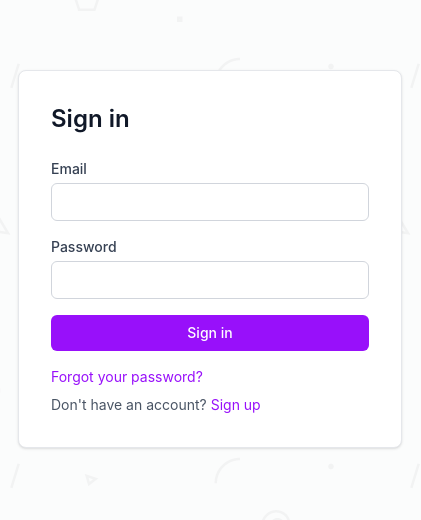
Scenario: LoginPage › ошибка от сервера › неподтверждённый email › предлагает выслать письмо повторно
In the field labelled "Email": (210, 202) left=51, top=183, right=369, bottom=221, type "user@example.com"
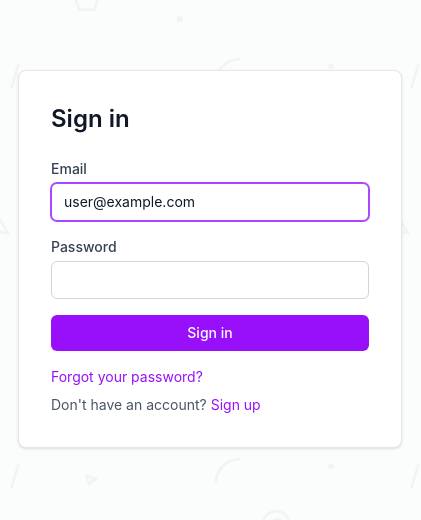
In the password field labelled "Password": (210, 280) left=51, top=261, right=369, bottom=299, type "secret123"
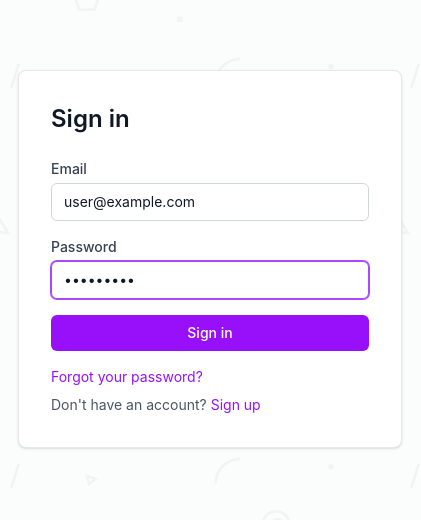
Click the button "Sign in": (210, 333) left=51, top=315, right=369, bottom=351
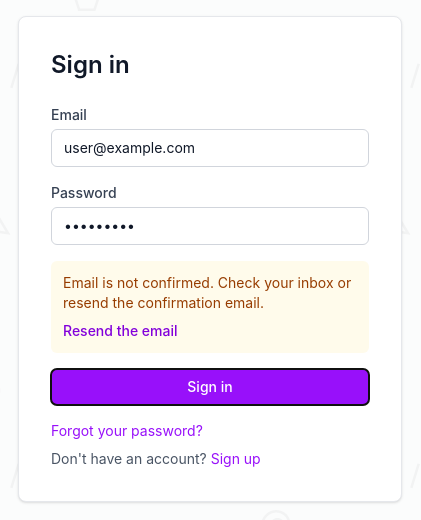
Result: the text "Email is not confirmed" is shown at left=63, top=274, right=351, bottom=311
Result: the button "Resend the email" is shown at left=63, top=321, right=178, bottom=341
